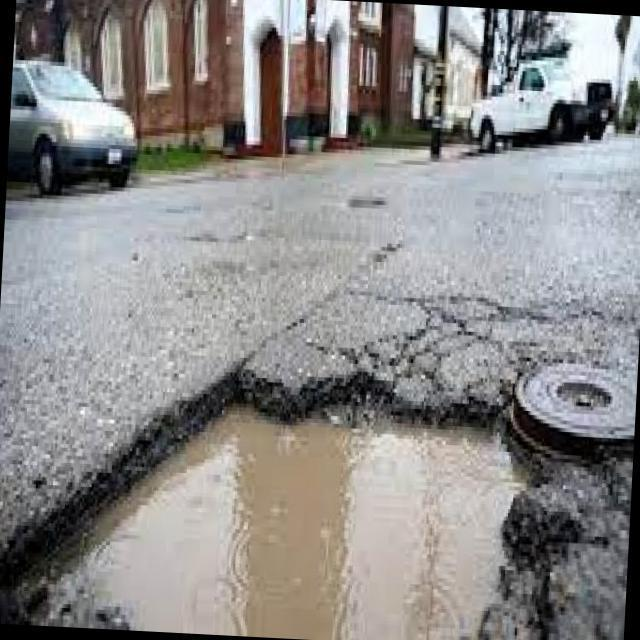pothole: (0, 369, 628, 640)
